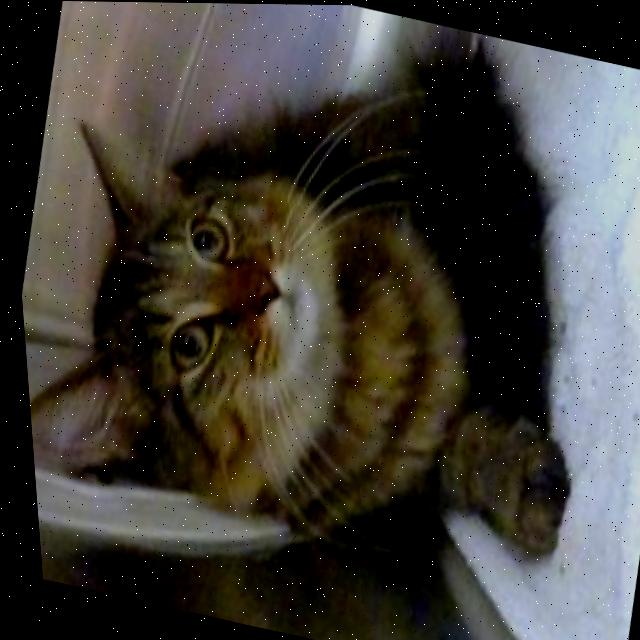Maine Coon: (0, 0, 640, 605)
